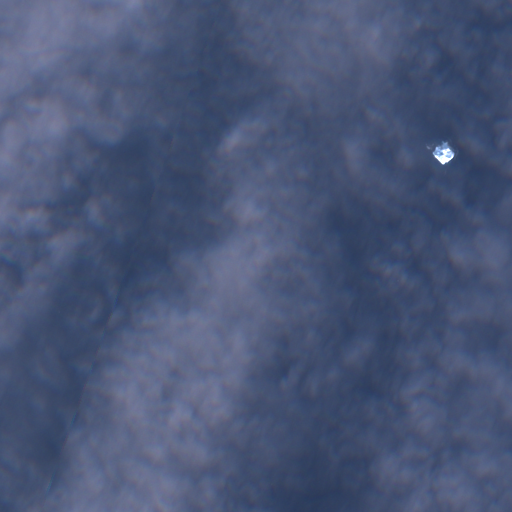Iceberg: (433, 141, 454, 164)
